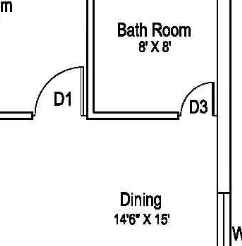door: (33, 60, 87, 127), (177, 80, 217, 120)
window: (212, 185, 237, 246)
